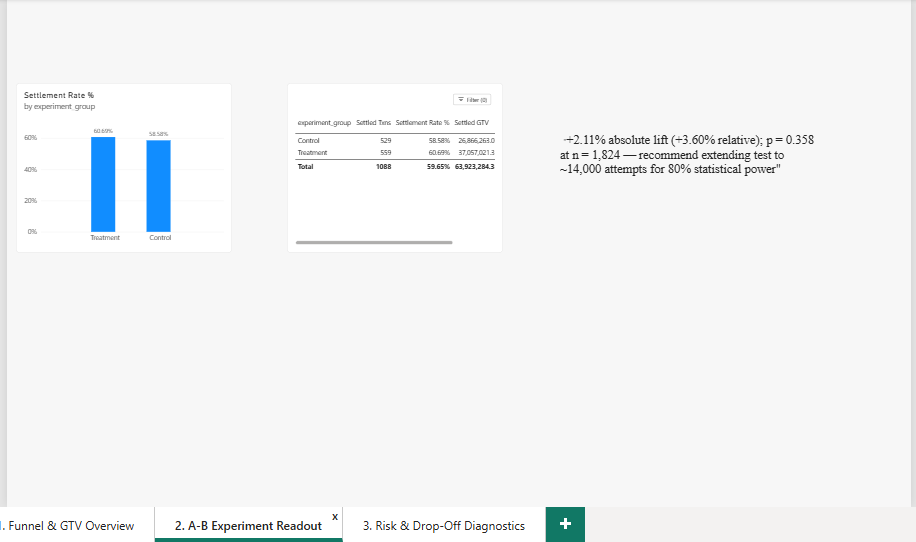

The page's visual inventory and layout, read from the dashboard file:
{"tool":"powerbi","page":{"name":"2. A-B Experiment Readout","canvas":[1920,1080],"ordinal":1},"visuals":[{"type":"clusteredColumnChart","fields":{"Category":["public dim_users.experiment_group"],"Y":["public fact_transactions.Settlement Rate %"]},"box":[19.1,178.6,459.2,361.4],"z":0},{"type":"tableEx","fields":{"Values":["public dim_users.experiment_group","public fact_transactions.Settled Txns","public fact_transactions.Settlement Rate %","public fact_transactions.Settled GTV","public fact_transactions.Total Attempts"]},"box":[595.3,178.6,459,361],"z":1000},{"type":"textbox","box":[19.1,0,1335.1,178.6],"z":1001},{"type":"textbox","box":[1175.7,284.9,556,179],"z":1002}]}

Visuals, with their boxes on the page's 1920x1080 design canvas (x1, y1, x2, y2). These are canvas units, not pixel positions in the 916x542 screenshot, which may show the page scaled, cropped or inside an application window:
clusteredColumnChart - public dim_users.experiment_group x public fact_transactions.Settlement Rate %: x1=19, y1=179, x2=478, y2=540
tableEx - public dim_users.experiment_group x public fact_transactions.Settled Txns: x1=595, y1=179, x2=1054, y2=540
textbox: x1=19, y1=0, x2=1354, y2=179
textbox: x1=1176, y1=285, x2=1732, y2=464
